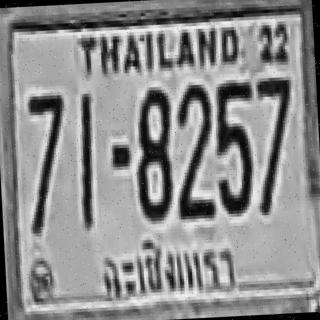N01: (75, 92, 96, 226)
N02: (173, 83, 215, 218)
N05: (211, 78, 256, 213)
N07: (23, 92, 68, 234), (253, 74, 296, 212), (26, 92, 68, 221)
N08: (132, 85, 174, 220)
P07: (93, 227, 247, 306)
